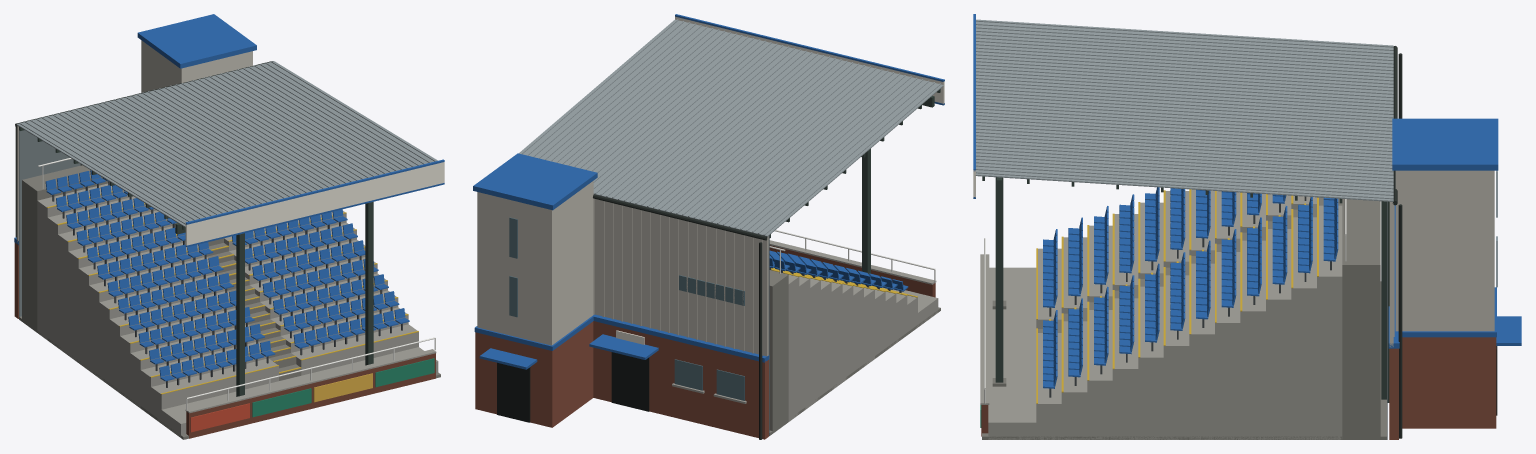
Rendered from main_stand_12.glb.
The picture shows the model from 3 angles, left to right: view 1: azimuth 30°, elevation 25°; view 2: azimuth 150°, elevation 25°; view 3: azimuth 270°, elevation 25°; orthographic projection. The views are drawn at different scales.
Visible parts, largest first — view 1: Main_Corrugated_Sheet, Main_Concrete, Main_Club_Primary_Seats, Main_Concrete_Dark, Main_Club_Secondary_Fascia, Main_Club_Primary_Trim, Main_Front_Wall, Main_Steel_Frame, Main_Rear_Cladding, Main_Seat_Bracket, Main_Corrugated_Underside, Main_Advert_2 (+5 smaller); view 2: Main_Corrugated_Sheet, Main_Rear_Cladding, Main_Rear_Brick, Main_Concrete, Main_Club_Primary_Trim, Main_Shadow_Gap, Main_Concrete_Dark, Main_Window_Glass, Main_Club_Primary_Seats, Main_Gutter, Main_Steel_Frame, Main_Club_Secondary_Fascia (+4 smaller); view 3: Main_Corrugated_Sheet, Main_Concrete, Main_Club_Primary_Seats, Main_Rear_Cladding, Main_Concrete_Dark, Main_Rear_Brick, Main_Club_Primary_Trim, Main_Step_Edge_Yellow, Main_Steel_Frame, Main_Gutter, Main_Corrugated_Underside, Main_Seat_Bracket.
Boxes of the visible parts, x1=… form: Main_Corrugated_Sheet: x1=16, y1=61, x2=437, y2=227; Main_Concrete: x1=37, y1=183, x2=438, y2=437; Main_Club_Primary_Seats: x1=45, y1=170, x2=409, y2=381; Main_Concrete_Dark: x1=19, y1=165, x2=440, y2=439; Main_Club_Secondary_Fascia: x1=185, y1=162, x2=444, y2=245; Main_Club_Primary_Trim: x1=14, y1=14, x2=444, y2=247; Main_Front_Wall: x1=186, y1=353, x2=435, y2=438; Main_Steel_Frame: x1=19, y1=127, x2=373, y2=396; Main_Rear_Cladding: x1=16, y1=40, x2=252, y2=243; Main_Seat_Bracket: x1=52, y1=181, x2=402, y2=387; Main_Corrugated_Underside: x1=17, y1=125, x2=185, y2=319; Main_Advert_2: x1=252, y1=358, x2=434, y2=417; Main_Corrugated_Sheet: x1=519, y1=19, x2=943, y2=236; Main_Rear_Cladding: x1=477, y1=181, x2=768, y2=356; Main_Rear_Brick: x1=475, y1=321, x2=768, y2=439; Main_Concrete: x1=672, y1=240, x2=938, y2=421; Main_Club_Primary_Trim: x1=473, y1=14, x2=944, y2=369; Main_Shadow_Gap: x1=497, y1=352, x2=649, y2=422; Main_Concrete_Dark: x1=769, y1=270, x2=940, y2=435; Main_Window_Glass: x1=509, y1=217, x2=744, y2=400; Main_Club_Primary_Seats: x1=769, y1=250, x2=908, y2=291; Main_Gutter: x1=593, y1=194, x2=767, y2=439; Main_Steel_Frame: x1=769, y1=89, x2=940, y2=274; Main_Club_Secondary_Fascia: x1=616, y1=16, x2=944, y2=344; Main_Corrugated_Sheet: x1=975, y1=19, x2=1393, y2=201; Main_Concrete: x1=980, y1=189, x2=1342, y2=439; Main_Club_Primary_Seats: x1=1043, y1=187, x2=1338, y2=388; Main_Rear_Cladding: x1=1389, y1=170, x2=1494, y2=347; Main_Concrete_Dark: x1=982, y1=198, x2=1386, y2=439; Main_Rear_Brick: x1=1389, y1=337, x2=1496, y2=439; Main_Club_Primary_Trim: x1=973, y1=14, x2=1521, y2=348; Main_Step_Edge_Yellow: x1=1036, y1=189, x2=1318, y2=403; Main_Steel_Frame: x1=982, y1=176, x2=1389, y2=402; Main_Gutter: x1=1392, y1=46, x2=1402, y2=438; Main_Corrugated_Underside: x1=976, y1=175, x2=1393, y2=439; Main_Seat_Bracket: x1=1049, y1=196, x2=1331, y2=397.
Size of the model in its own units: 11.52 by 9.36 by 17.19.
